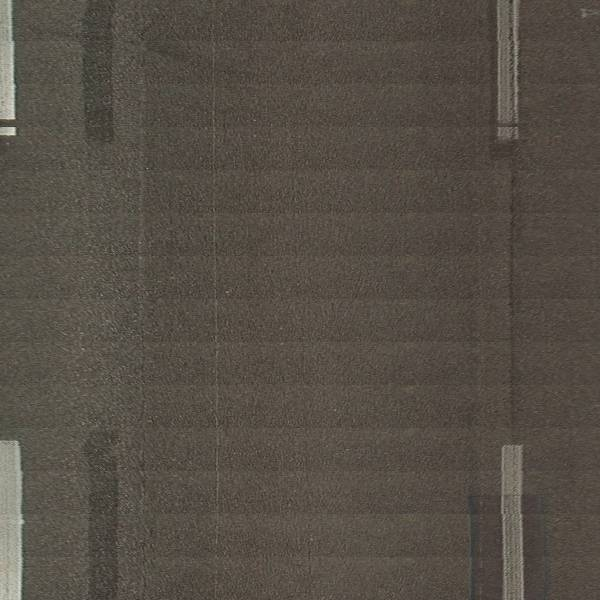road_damage: (504, 164, 521, 438)
